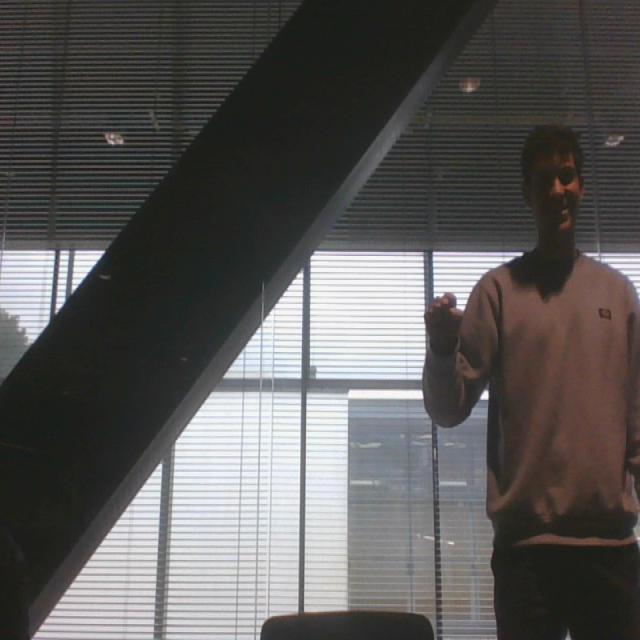stop: (417, 285, 469, 353)
